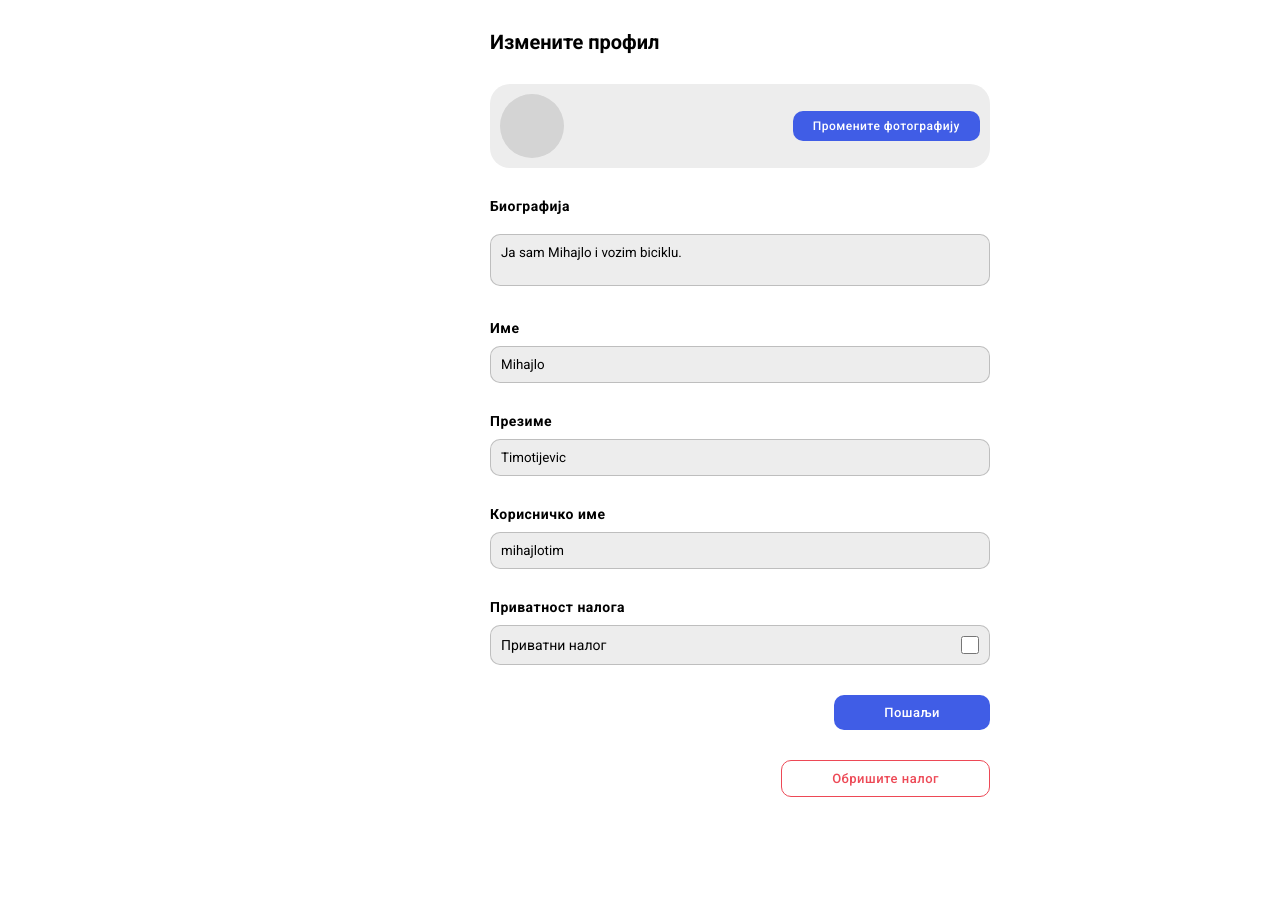
Test: EditProfile › prikazuje CustomConfirm pri brisanju naloga
Click the button "Обришите налог" at x=886, y=778, box [781,760,990,797]
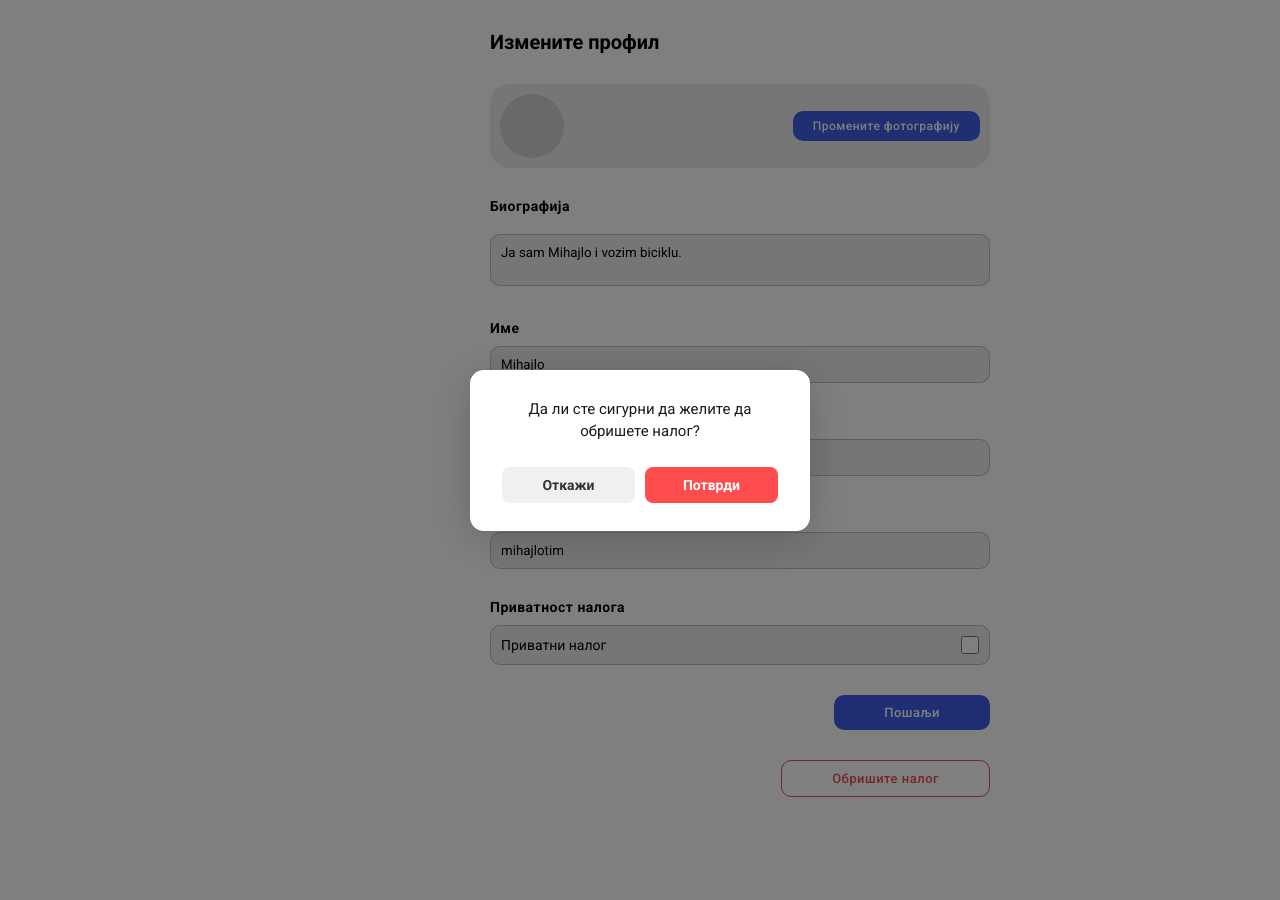
Expected: the text "Да ли сте сигурни да желите да обришете налог?" is shown, [529,400,751,440]
